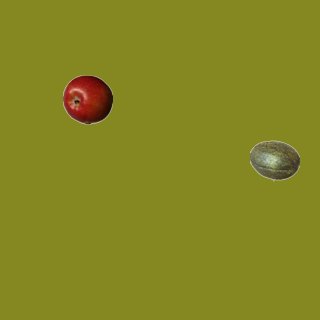Apple Braeburn: (62, 74, 112, 124)
Melon Piel de Sapo: (249, 135, 299, 185)
